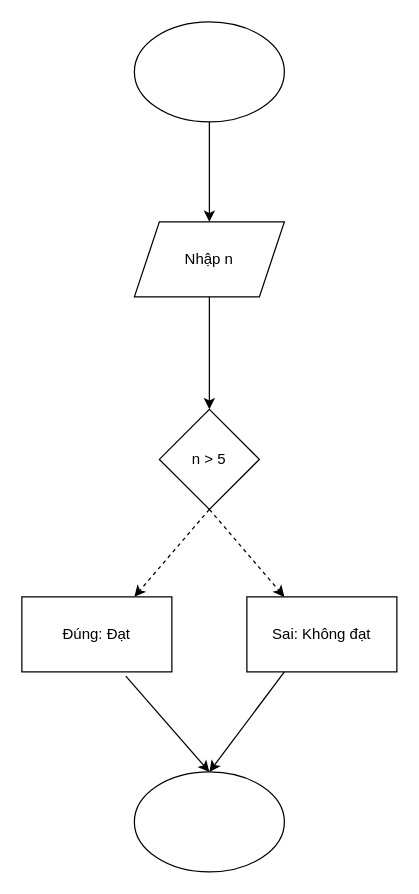
Image size: 419x894. Some labels were removed from this diagram. The centre of each missing label's shape, as x and y in pixels:
"Bắt đầu" goes at (x=208, y=71).
"Kết thúc" goes at (x=208, y=821).
